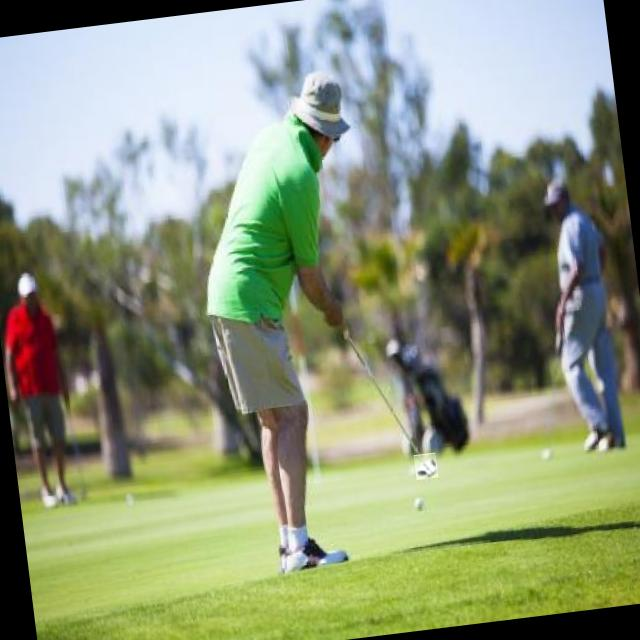club head: (413, 452, 438, 479)
